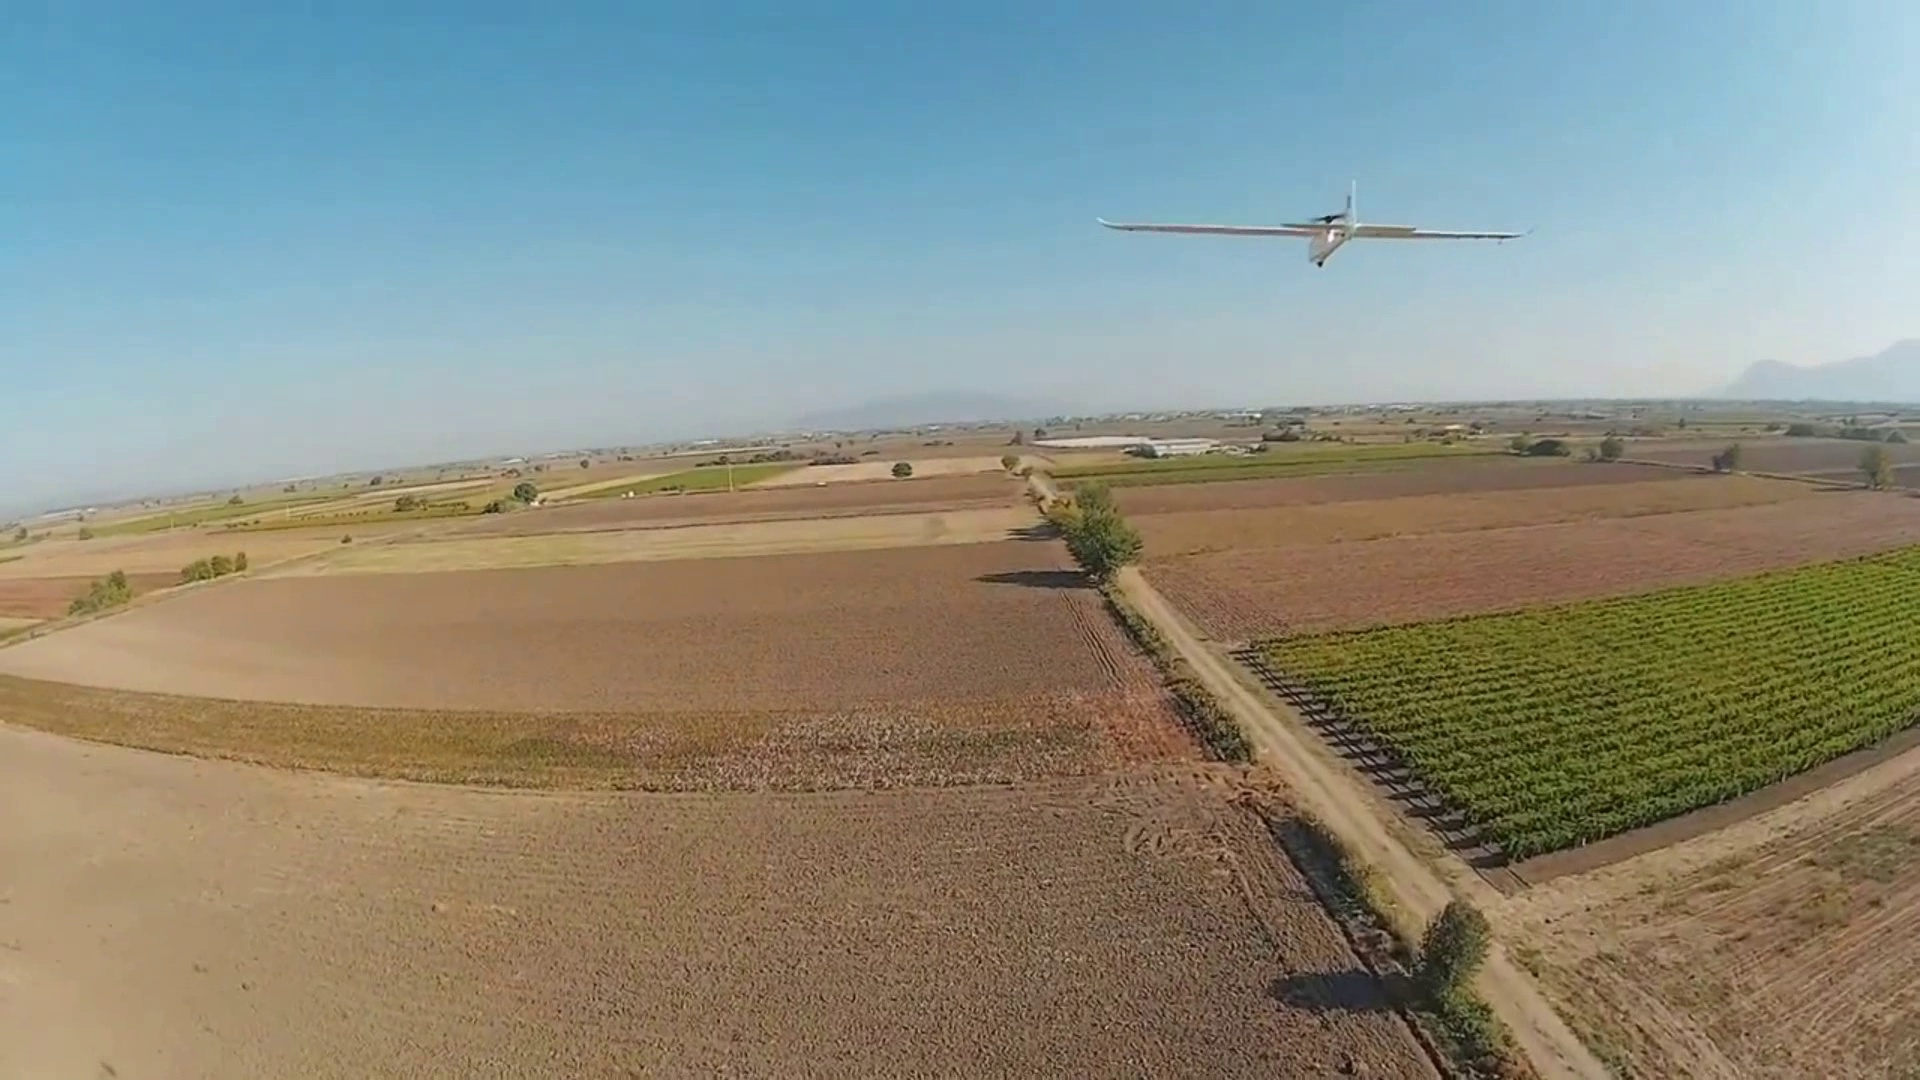airplane: (1093, 185, 1530, 268)
